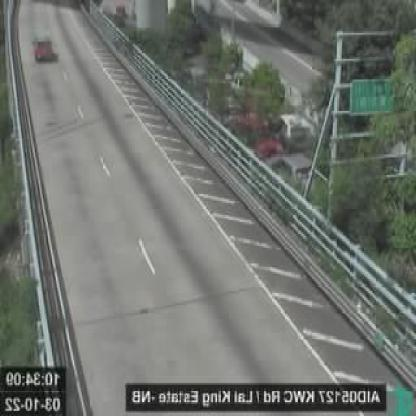Car: (32, 33, 54, 61)
